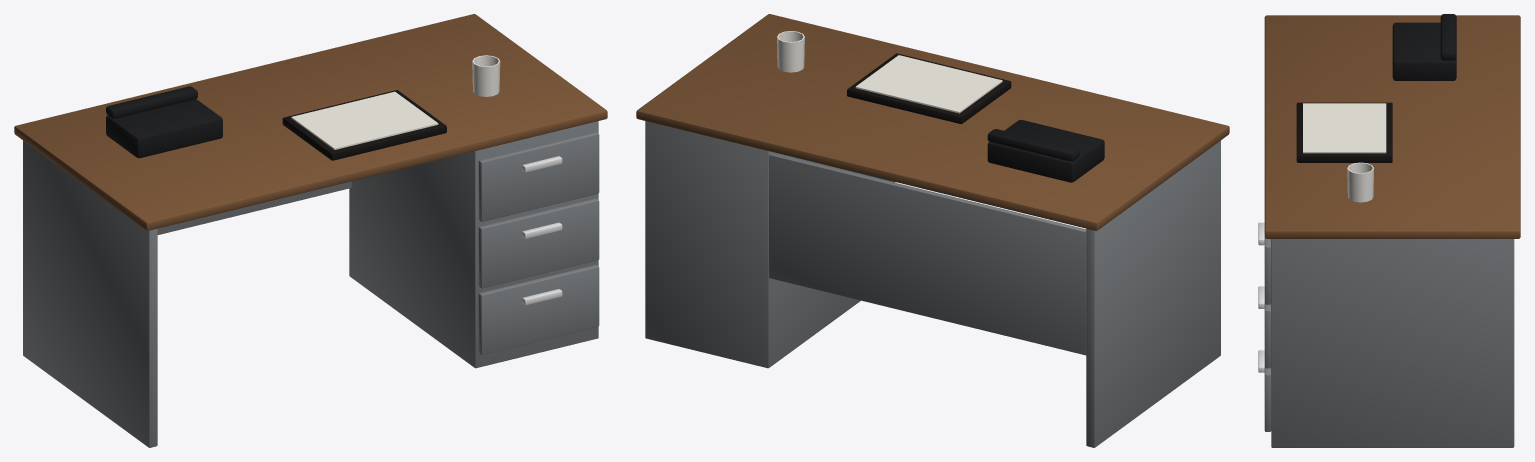
The model's file is office_desk.glb.
3 renders of one model, left to right at view 1: azimuth 30°, elevation 25°; view 2: azimuth 150°, elevation 25°; view 3: azimuth 270°, elevation 25°, orthographic. The views are drawn at different scales.
Visible parts, largest first — view 1: office_desk; view 2: office_desk; view 3: office_desk.
Part boxes in pixels (<box>): office_desk: <box>14,14,607,447</box>; office_desk: <box>636,14,1229,447</box>; office_desk: <box>1258,14,1520,447</box>.
Size of the model in its own units: 1.6 by 0.86 by 0.82.
